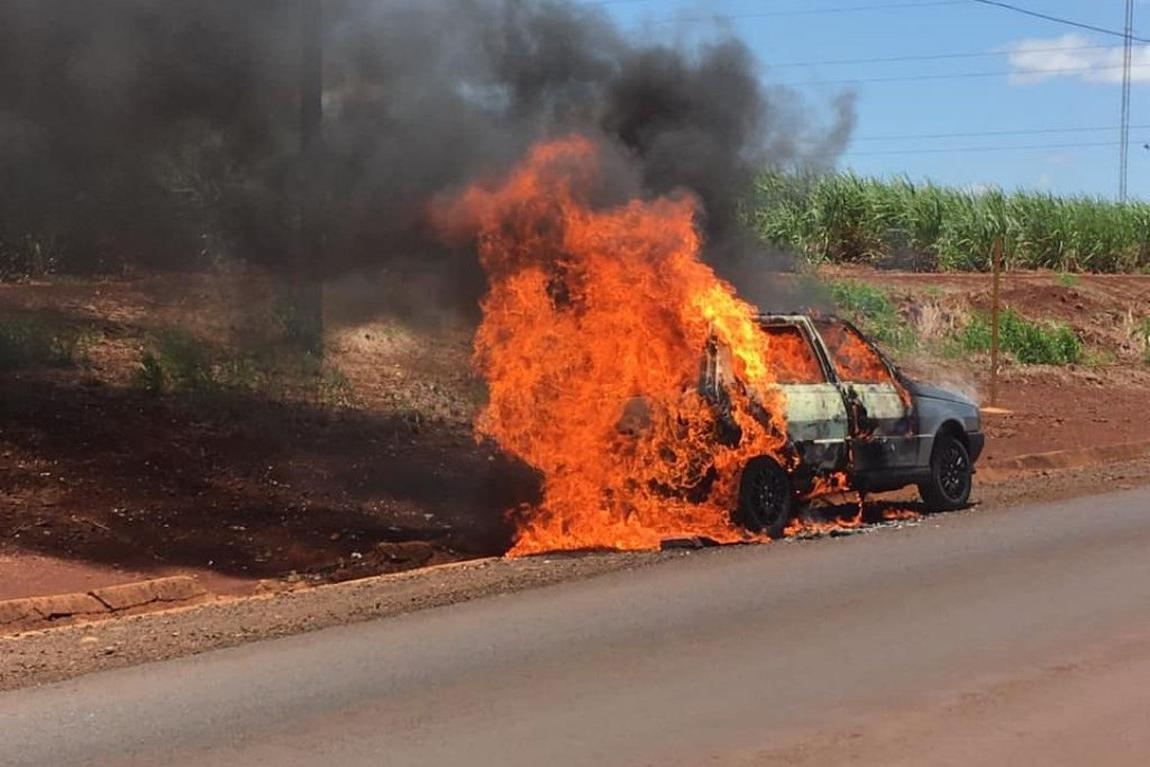Fire: (431, 135, 923, 560)
